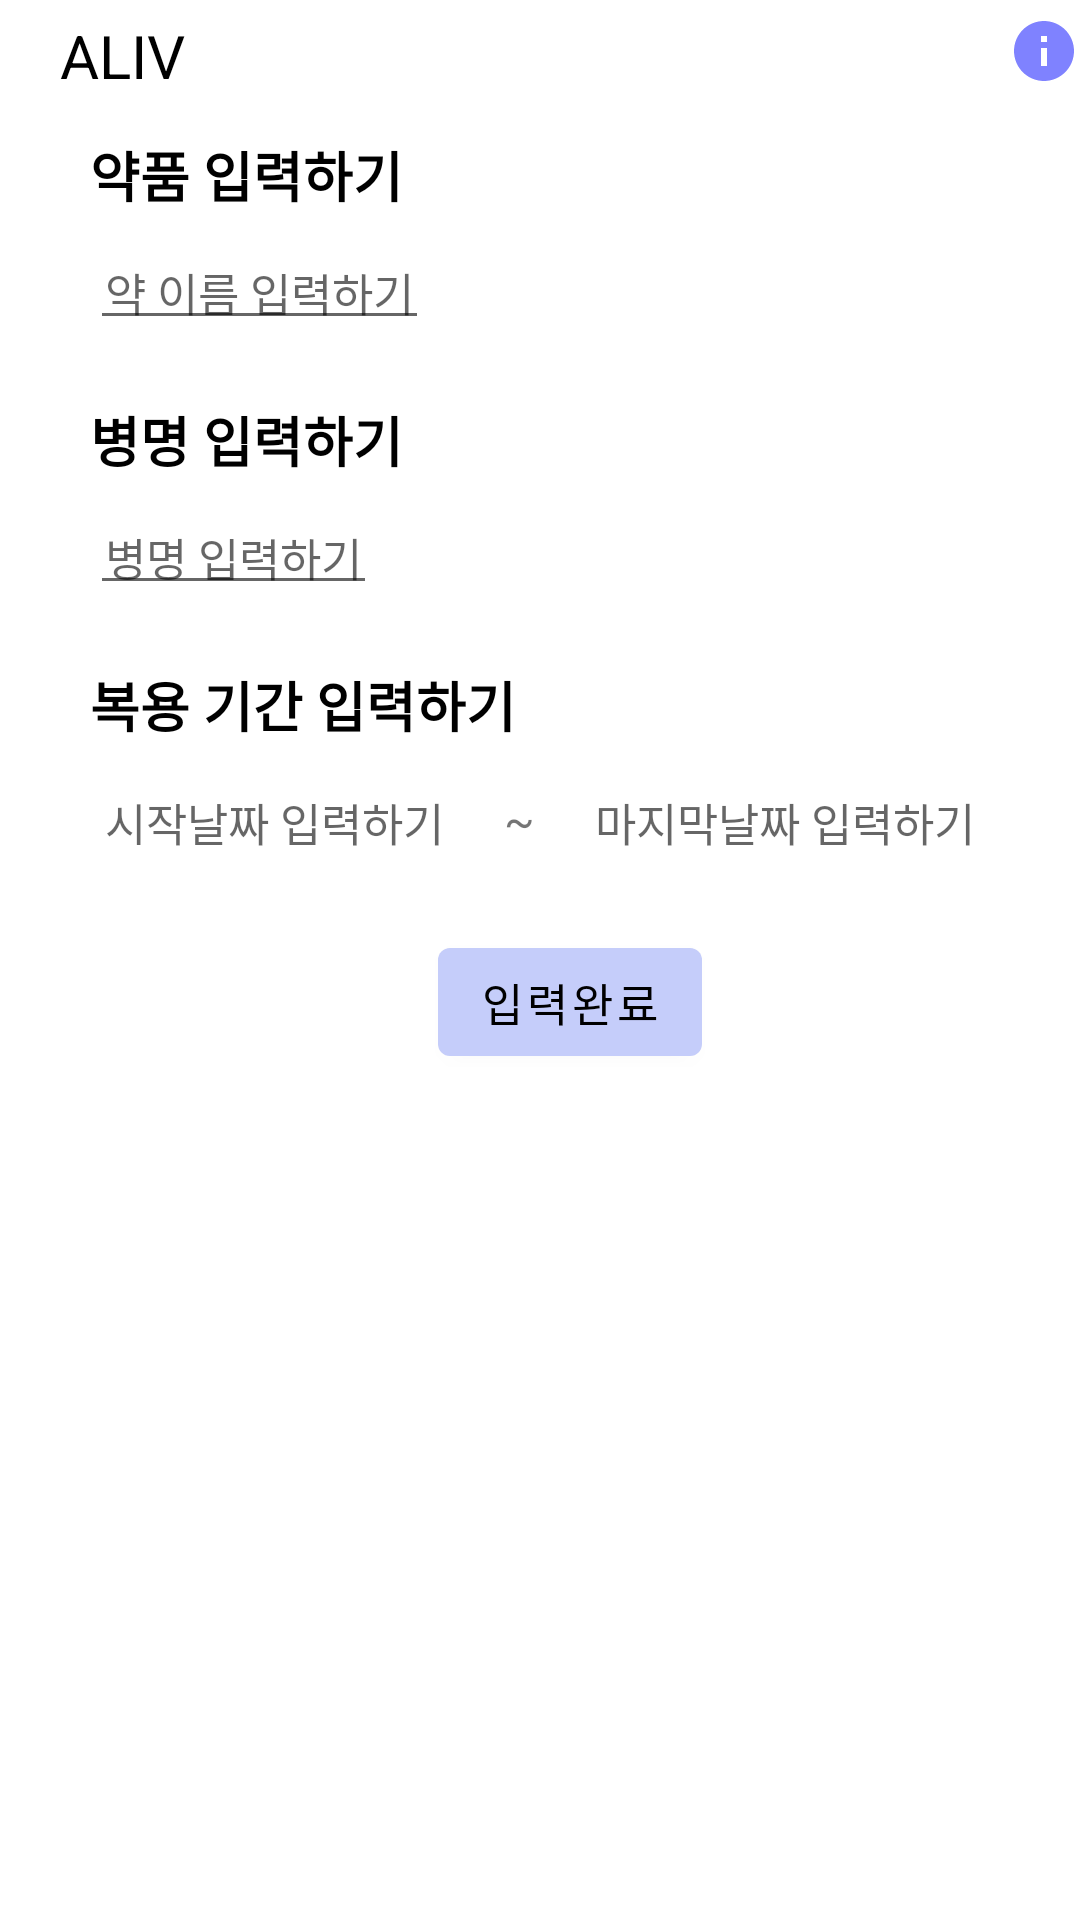

Point at icon controls on the screen. Image size 1080px×1920px, points as [x,y].
info: [1044,51]
